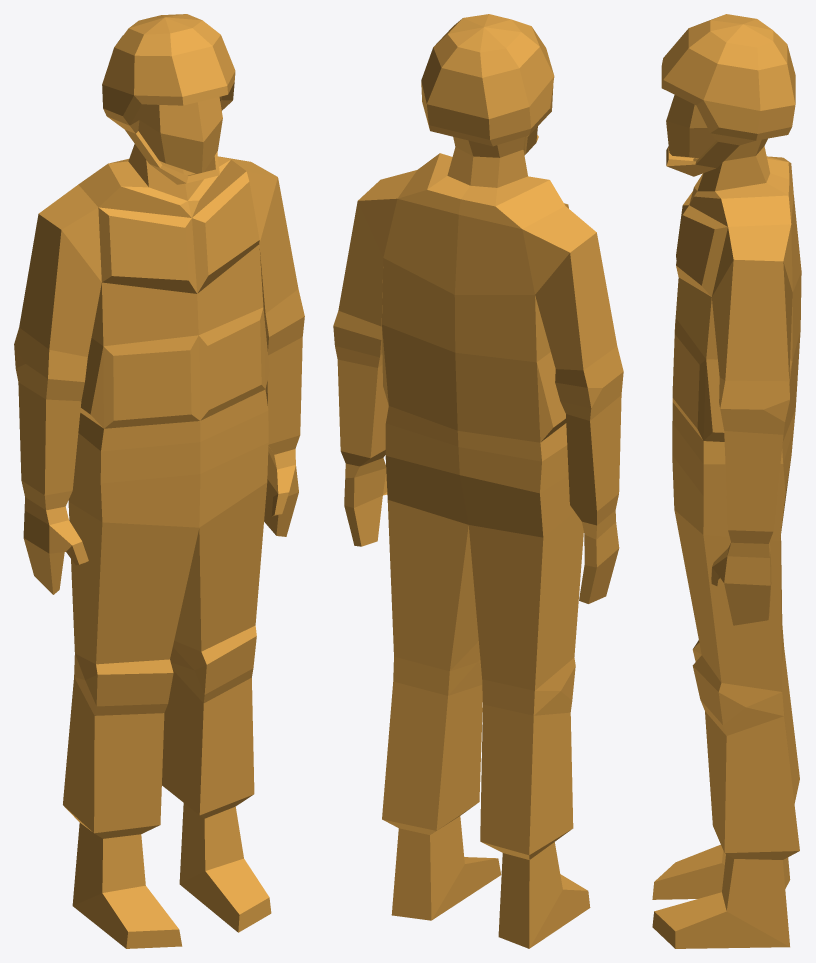
Rendered from man-swat.fbx.
3 renders of one model, left to right at view 1: azimuth 30°, elevation 25°; view 2: azimuth 150°, elevation 25°; view 3: azimuth 270°, elevation 25°, orthographic.
Visible parts, largest first — view 1: man-swat; view 2: man-swat; view 3: man-swat.
Part boxes in pixels (bbox=[...]): man-swat: bbox=[14, 14, 304, 948]; man-swat: bbox=[333, 14, 623, 948]; man-swat: bbox=[652, 14, 801, 948].
Bounding box in the file's own units: 0.5537 × 1.82 × 0.2769.
